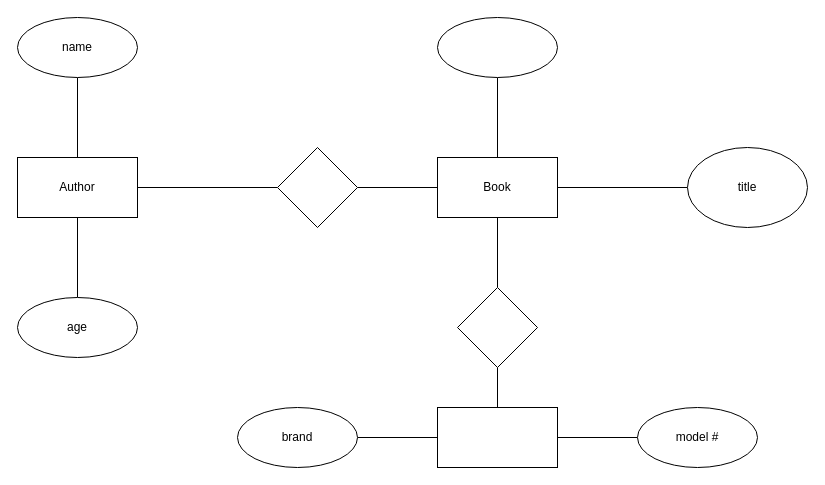
Some shapes in this 825 by 485 pixel diagram are drawn without their labels. Each missing label, with the box of its shape:
printed by: (456, 286, 538, 368)
printer: (436, 406, 558, 468)
Writes: (276, 146, 358, 228)
year published: (436, 16, 558, 78)
